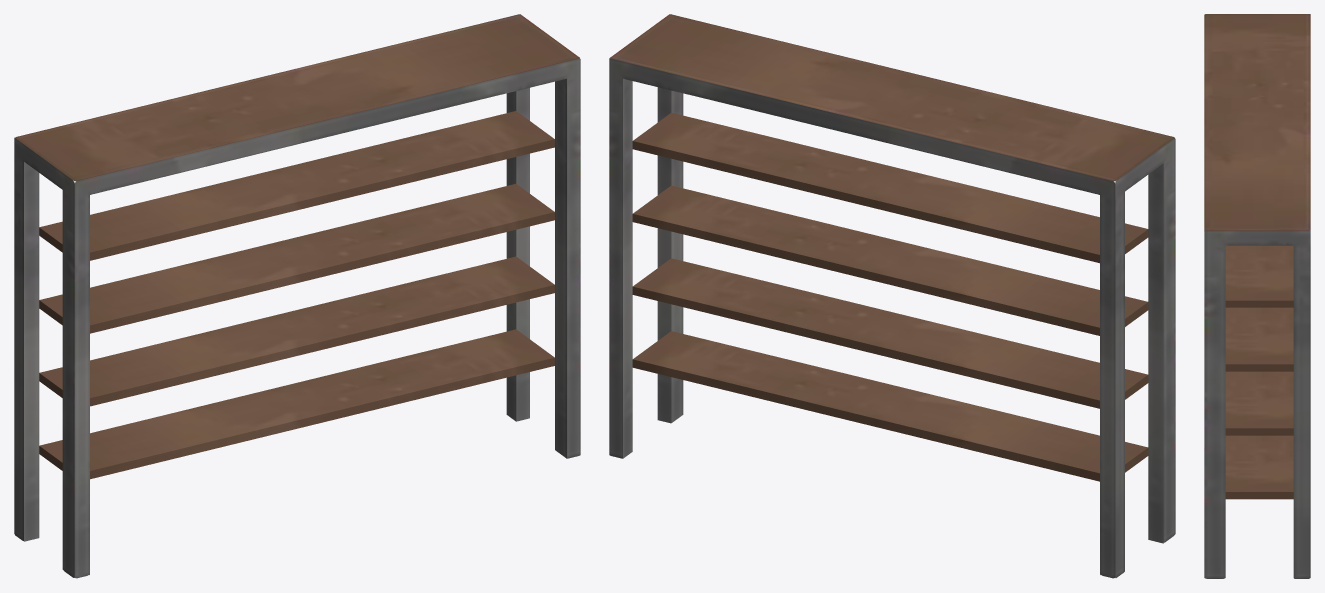
Rendered from open-shelving--1.gltf.
3 renders of one model, left to right at view 1: azimuth 30°, elevation 25°; view 2: azimuth 150°, elevation 25°; view 3: azimuth 270°, elevation 25°, orthographic. The views are drawn at different scales.
Parts seen in each view (by area): view 1: Open_cabinet_large; view 2: Open_cabinet_large; view 3: Open_cabinet_large.
Boxes of the visible parts, x1=… form: Open_cabinet_large: x1=14, y1=14, x2=580, y2=578; Open_cabinet_large: x1=609, y1=14, x2=1175, y2=578; Open_cabinet_large: x1=1204, y1=14, x2=1310, y2=578.
Bounding box in the file's own units: 2.75 × 2.06 × 0.5694.
1 material, 1 textured.
